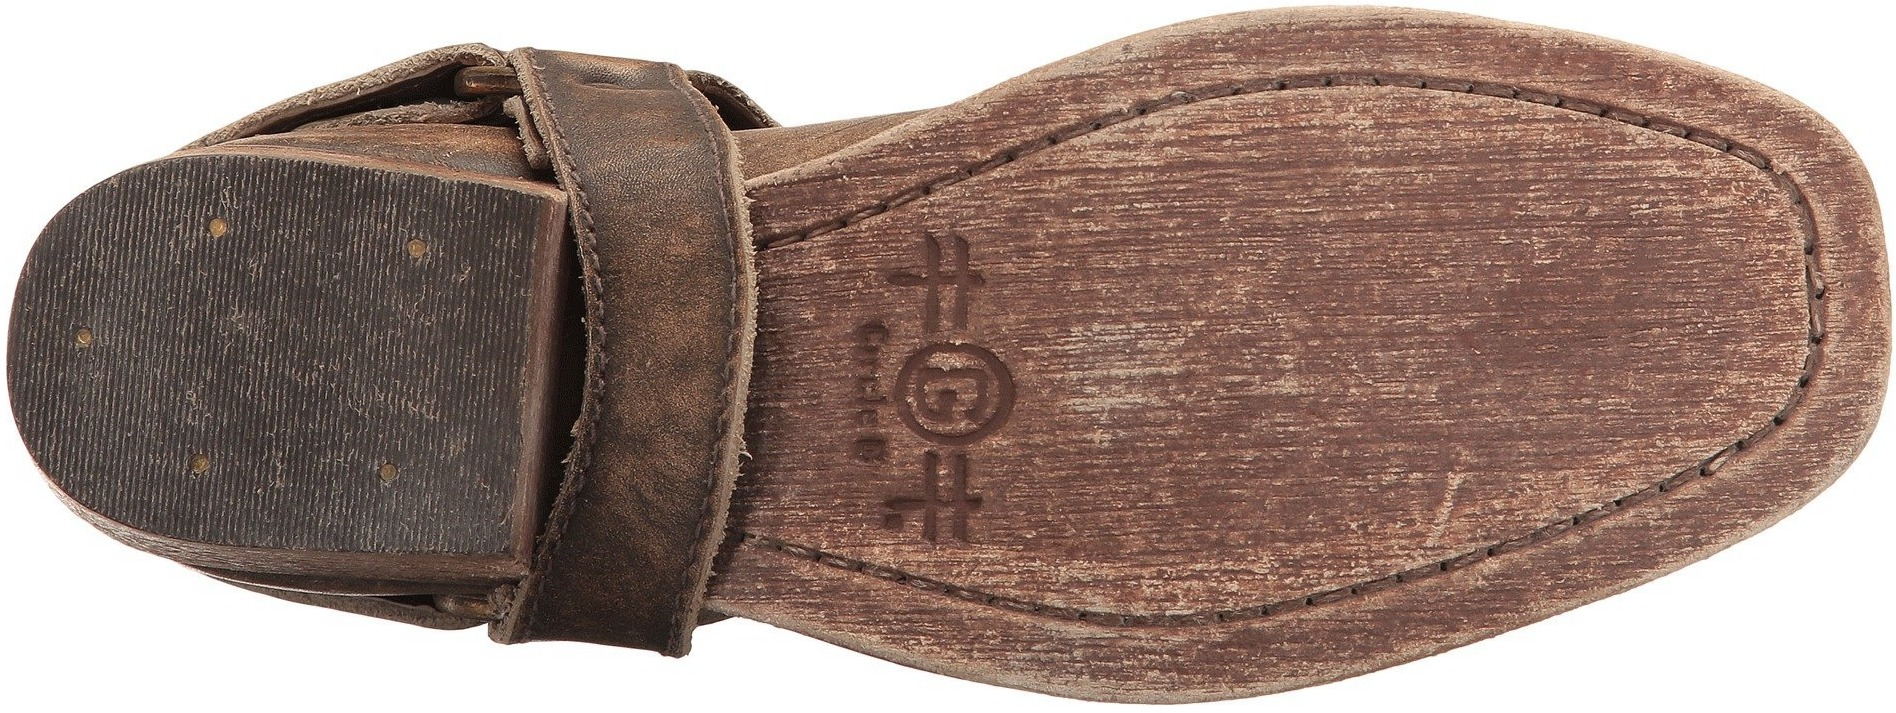other: (1074, 158, 1480, 531), (121, 210, 450, 527), (1493, 153, 1799, 435)
text: (844, 427, 1050, 595), (856, 237, 1040, 416)
